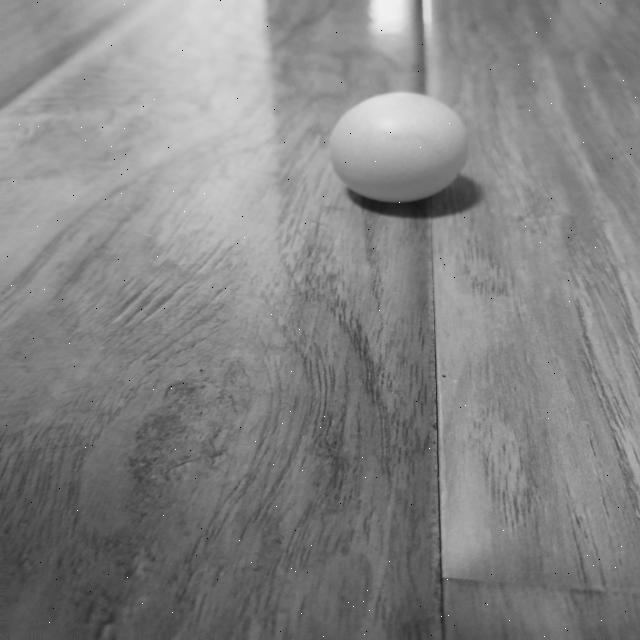ping-pong-ball: (328, 91, 468, 202)
